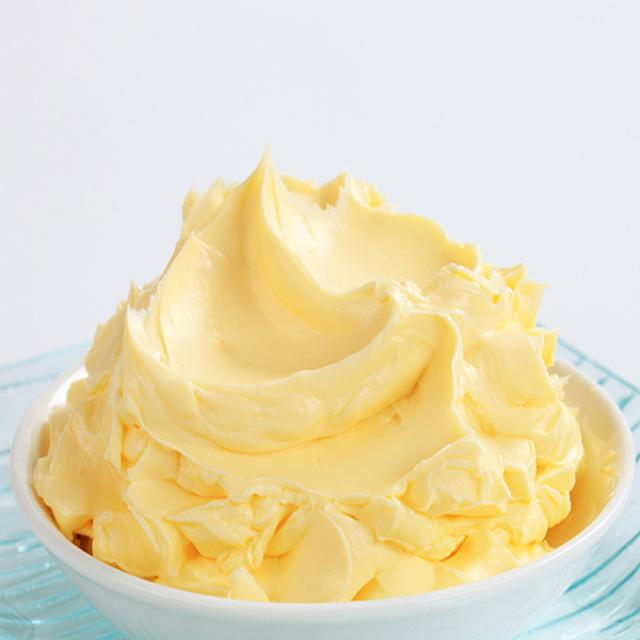Butter: (35, 165, 584, 600)
